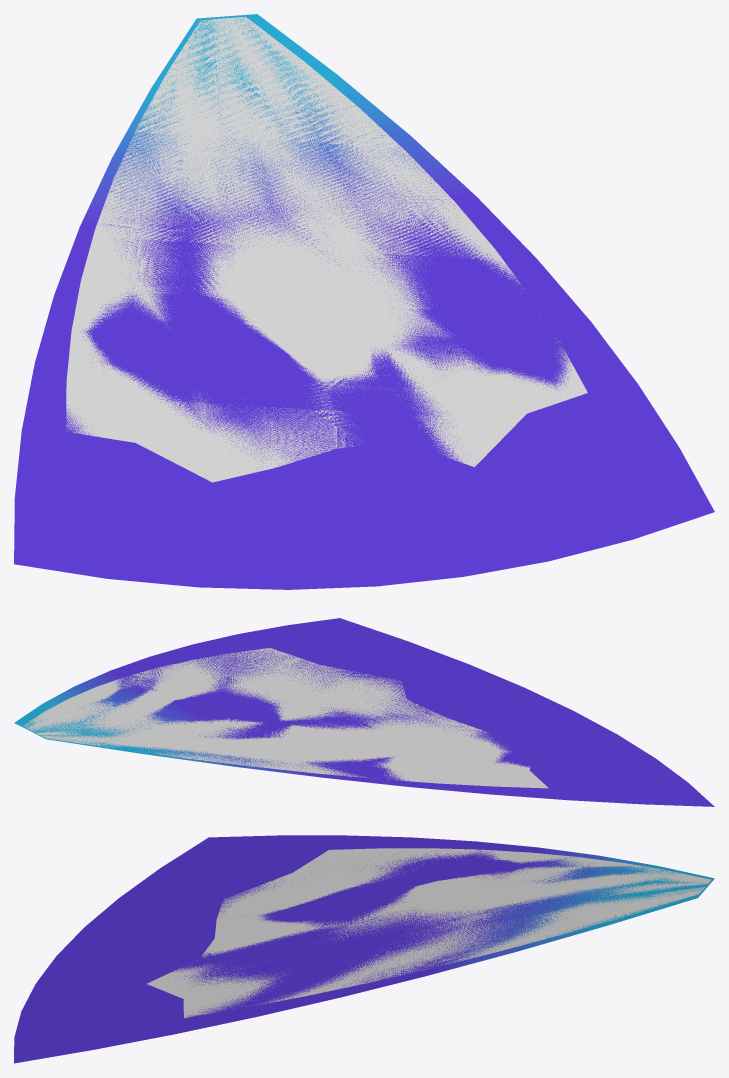
Rendered from pref_fx_Dratini_spell02_atk02_2_lv1.fbx.
3 renders of one model, top to bottom at view 1: azimuth 30°, elevation 25°; view 2: azimuth 150°, elevation 25°; view 3: azimuth 270°, elevation 25°, orthographic. The views are drawn at different scales.
Visible parts, largest first — view 1: m_wind_02 (1); view 2: m_wind_02 (1); view 3: m_wind_02 (1).
Part boxes in pixels (x1,y1,x2,y2): m_wind_02 (1): (14, 14, 714, 589); m_wind_02 (1): (14, 618, 714, 806); m_wind_02 (1): (14, 835, 714, 1063).
Size of the model in its own units: 3.8 by 1.26 by 4.75.
